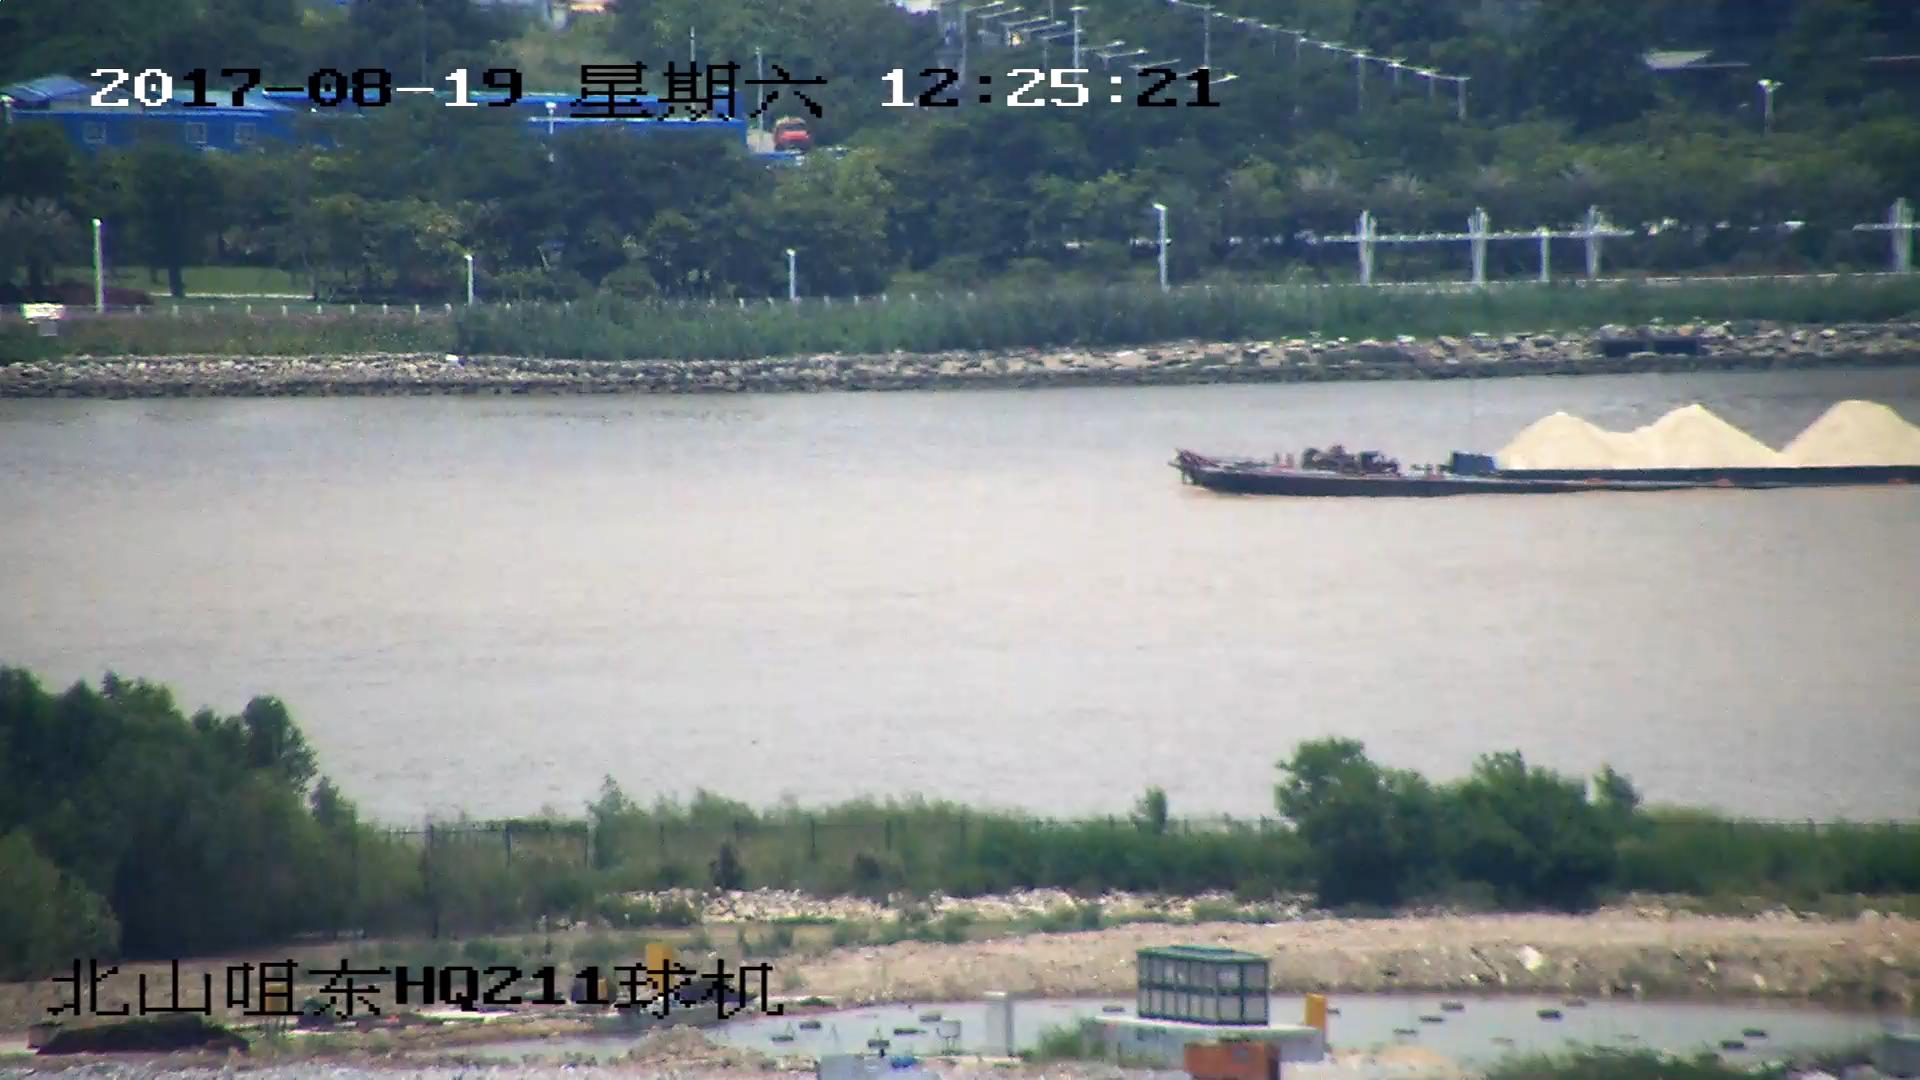ore carrier: (1166, 394, 1920, 499)
